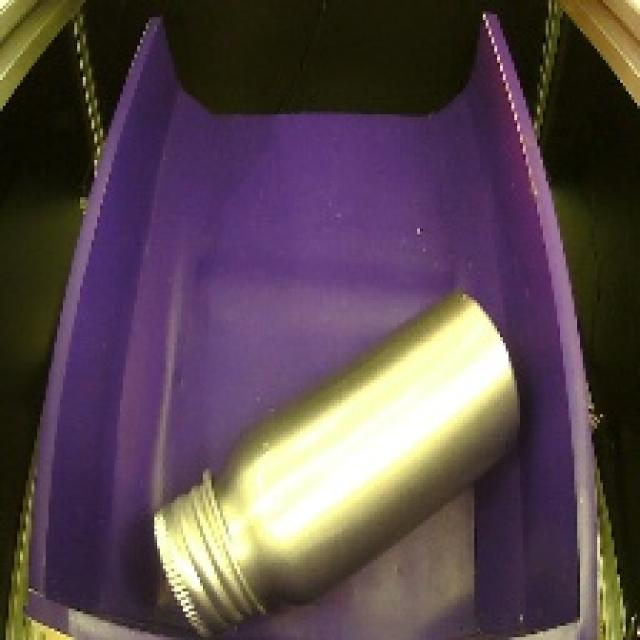metal: (126, 277, 543, 640)
